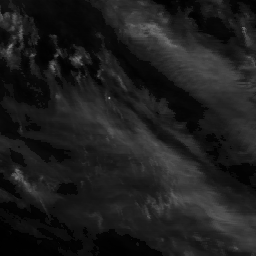Target: (106, 95, 111, 100)
